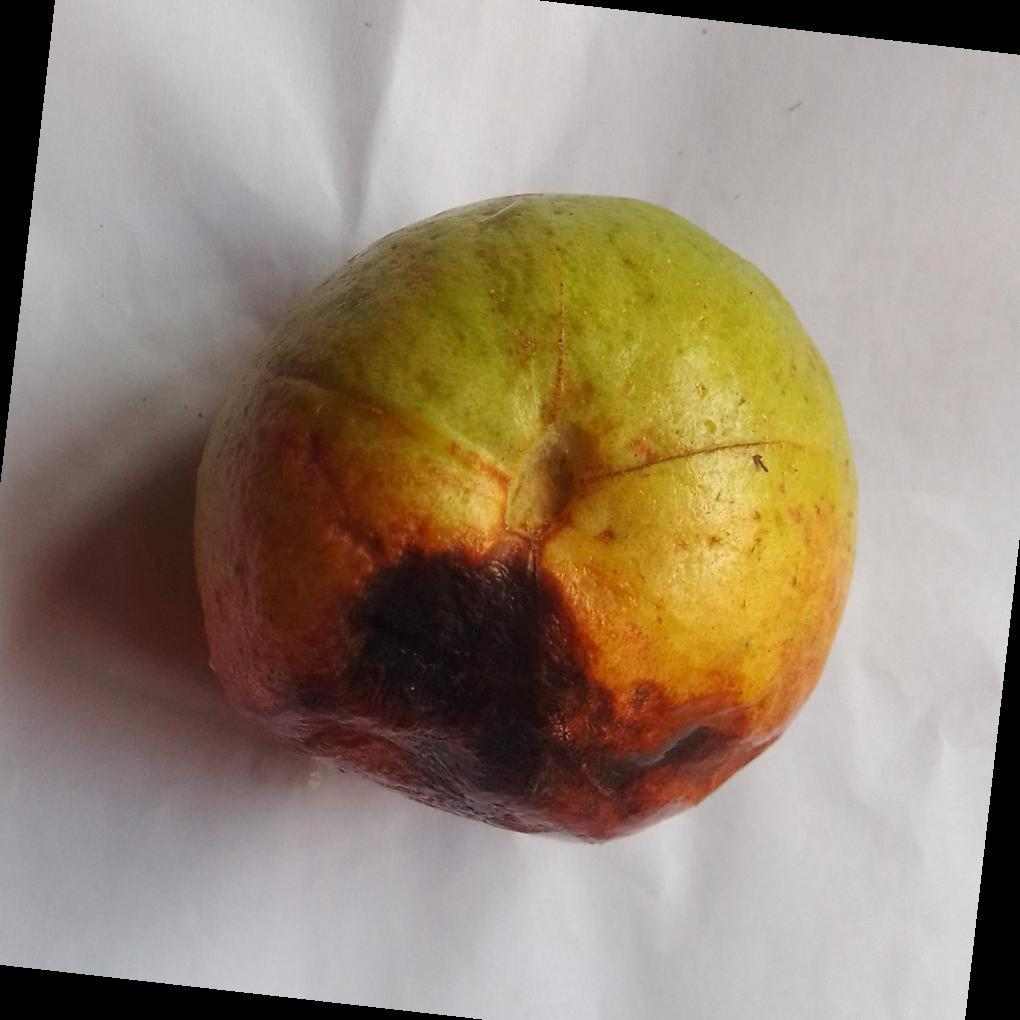FreshOrange: (191, 195, 860, 848)
